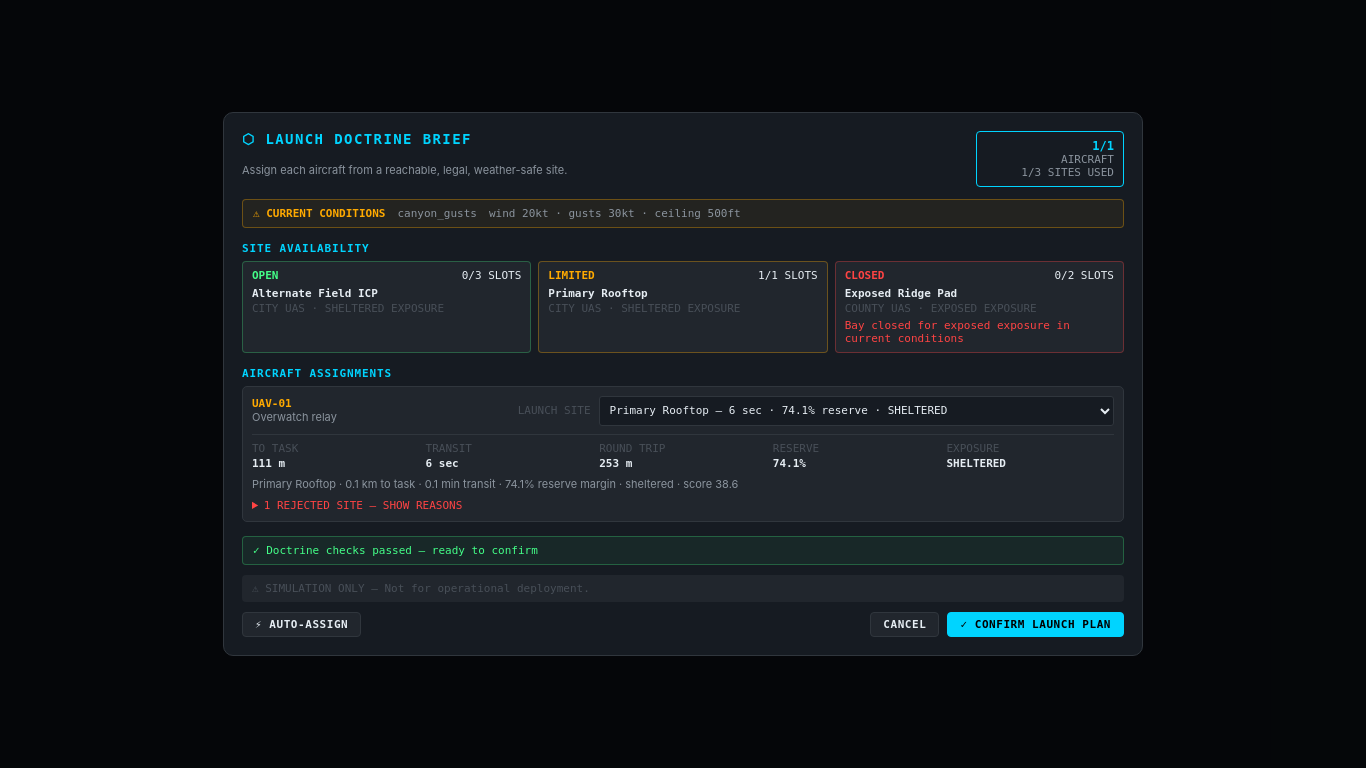
<LaunchBayPlanner /> › keeps rejected sites visible with exact reasons and disables invalid choices
The width and height of the screenshot is (1366, 768).
Click the heading "1 REJECTED SITE — SHOW REASONS": (363, 506) x1=264 y1=499 x2=462 y2=512
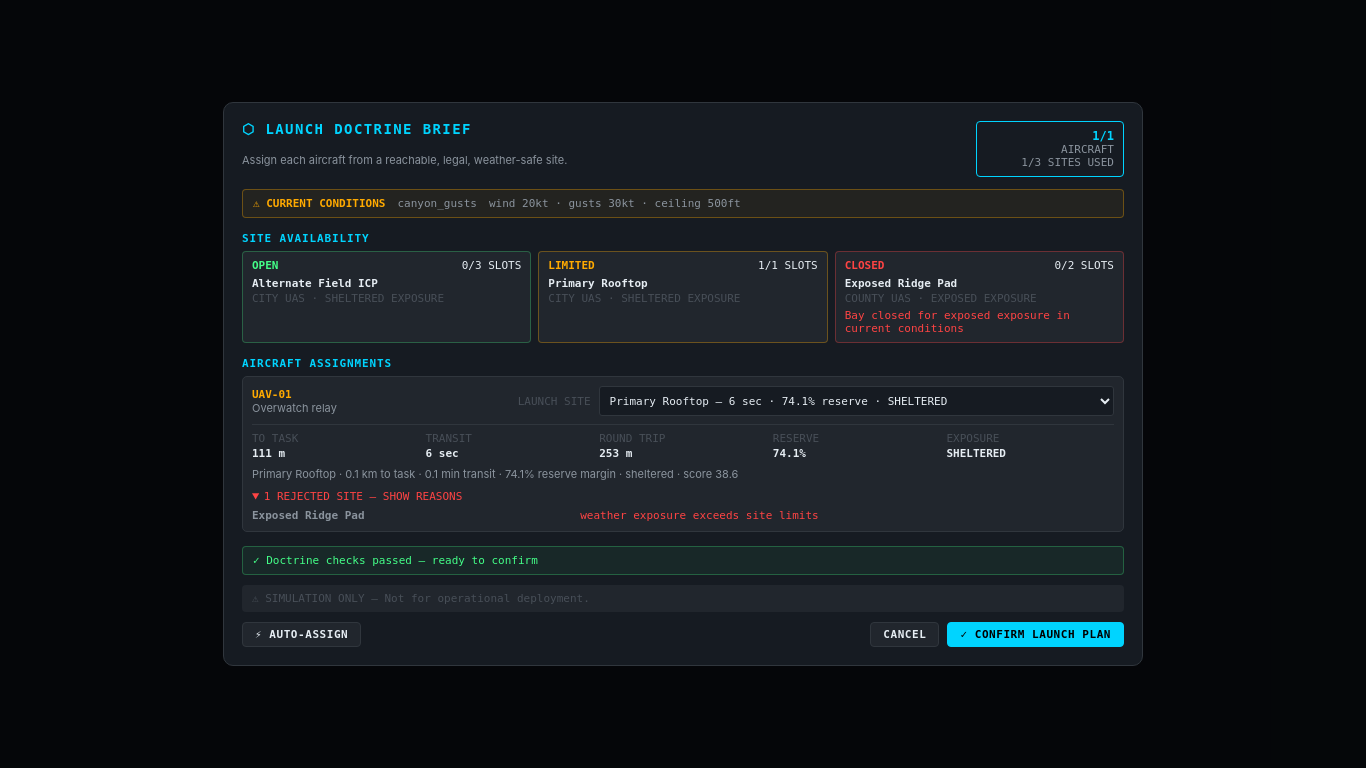
Expected: the text "Exposed Ridge Pad" is shown, x1=252 y1=509 x2=365 y2=522
Expected: the text "weather exposure exceeds site limits" is shown, x1=580 y1=509 x2=819 y2=522
